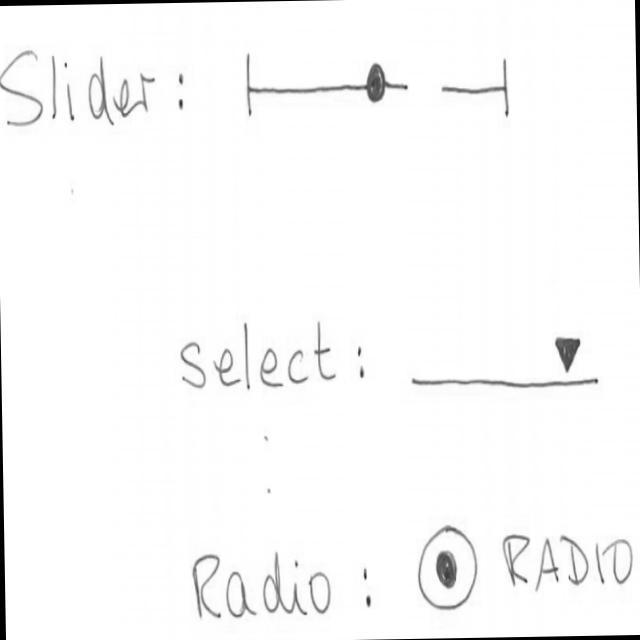radio: (412, 517, 636, 614)
select: (404, 316, 600, 396)
slider: (240, 39, 520, 128)
